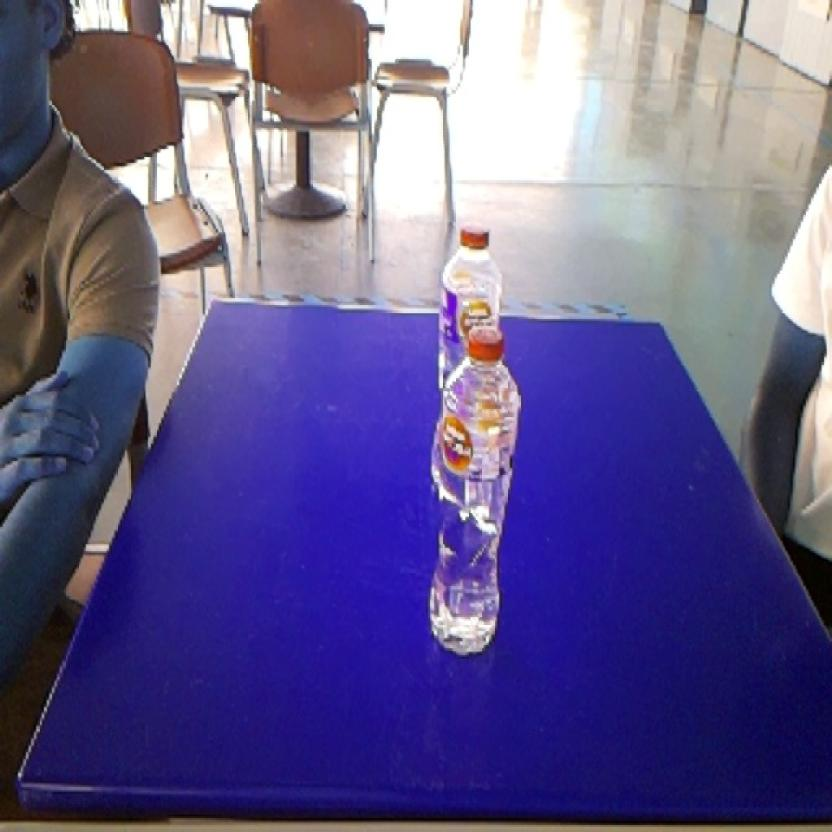good: (427, 316, 522, 670), (430, 208, 516, 332)
